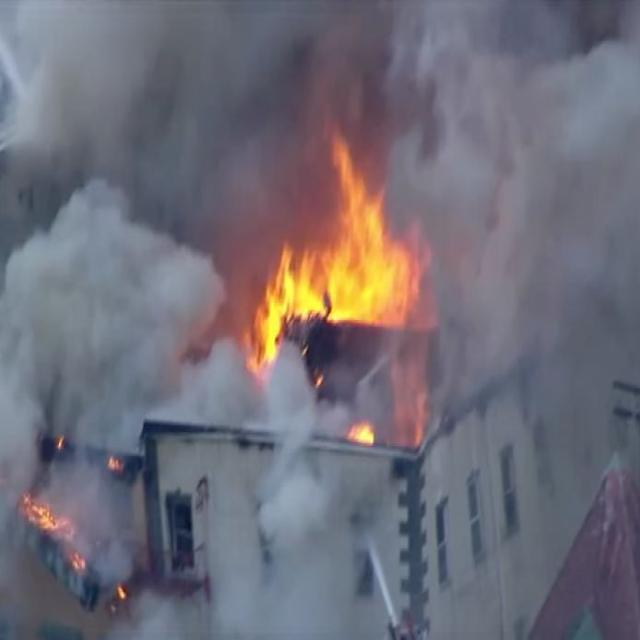Fire: (253, 143, 420, 375), (19, 472, 112, 612), (252, 246, 326, 366), (348, 414, 377, 446)
Smoke: (444, 6, 640, 416), (0, 12, 207, 384), (234, 17, 448, 128)
